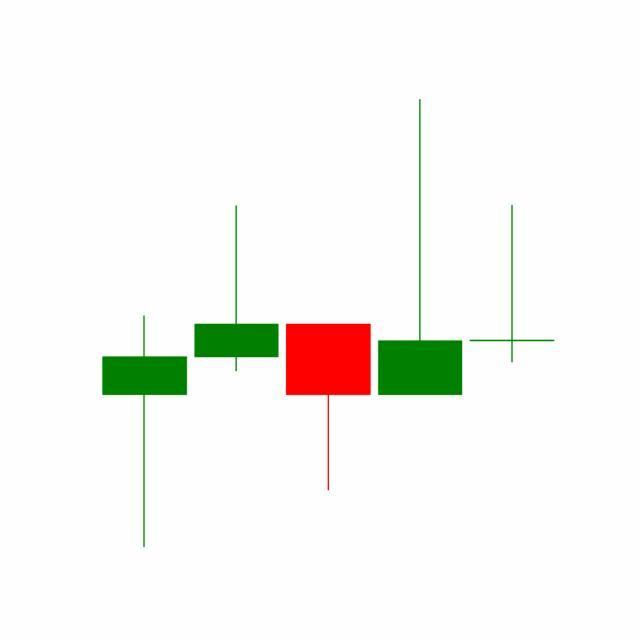Gravestone Doji: (466, 203, 559, 365)
